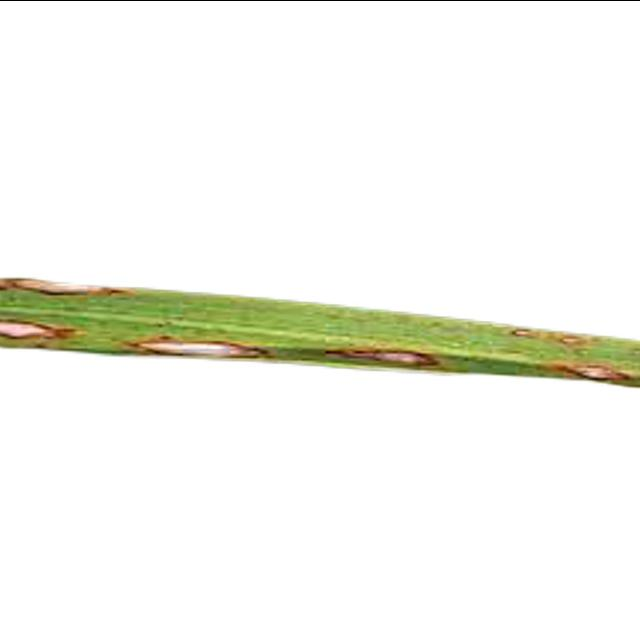Leaf blast: (0, 265, 640, 398)
